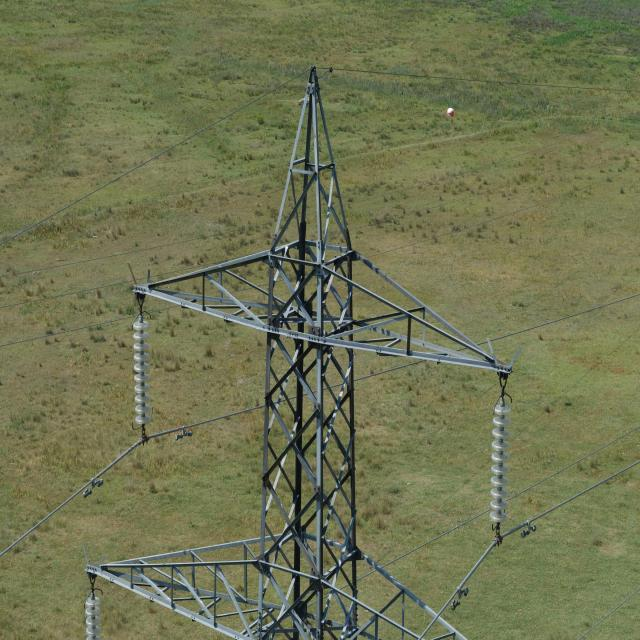direk: (254, 88, 361, 640)
